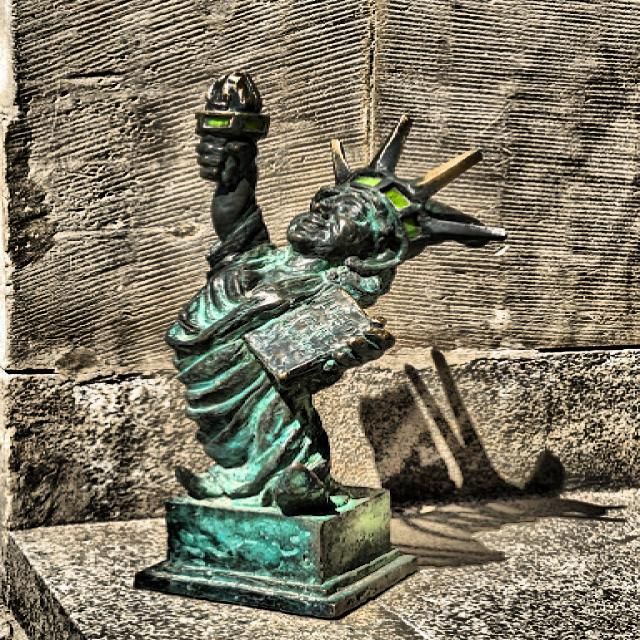LadyWolnosc: (136, 73, 506, 618)
